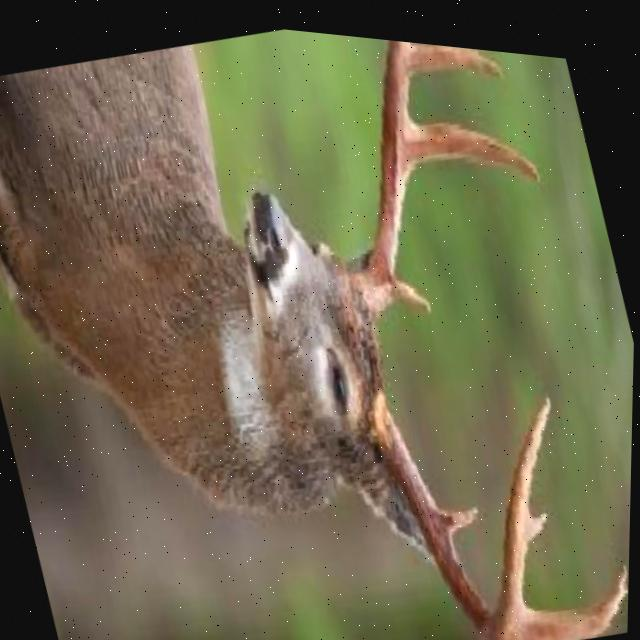L-F: (355, 31, 410, 316)
L-G1: (394, 267, 434, 310)
L-G2: (409, 107, 544, 172)
L-G3: (409, 33, 505, 74)
R-F: (369, 375, 553, 638)
R-G1: (440, 492, 482, 526)
R-G2: (512, 546, 631, 639)
R-G3: (531, 496, 552, 530)
